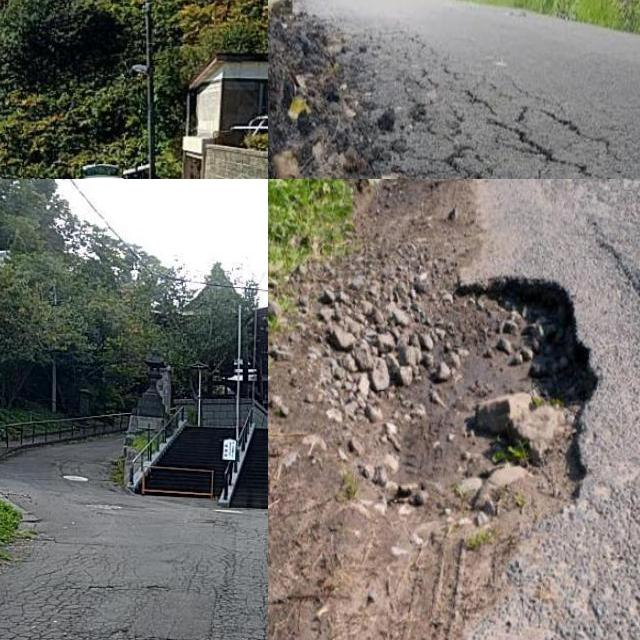Pinggir: (434, 271, 605, 555), (268, 7, 401, 179)
